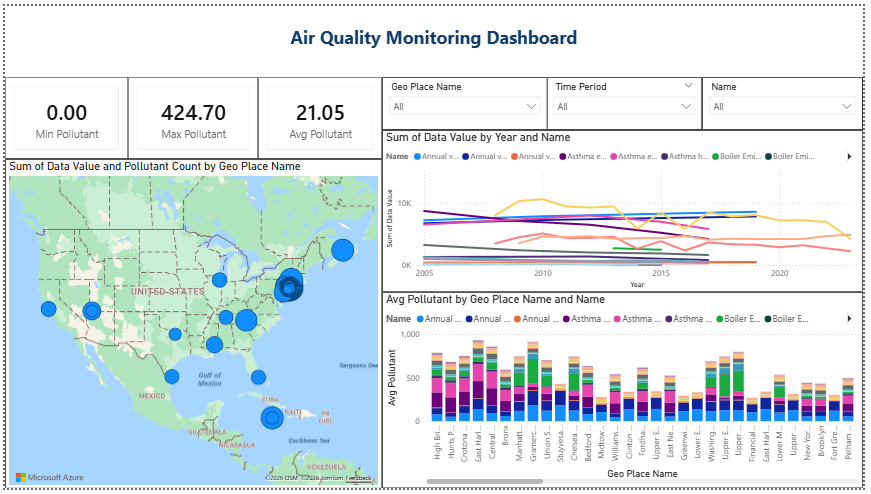

The page's visual inventory and layout, read from the dashboard file:
{"tool":"powerbi","page":{"name":"Page 1","canvas":[1280,720],"ordinal":0},"visuals":[{"type":"azureMap","fields":{"Category":["Air_Quality.Geo Place Name"],"Size":["Sum(Air_Quality.Data Value)"]},"box":[0,227.8,562.5,491.7],"z":0},{"type":"lineChart","fields":{"Category":["Air_Quality.Start_Date.Variation.Date Hierarchy.Year","Air_Quality.Start_Date.Variation.Date Hierarchy.Quarter","Air_Quality.Start_Date.Variation.Date Hierarchy.Month","Air_Quality.Start_Date.Variation.Date Hierarchy.Day"],"Y":["Sum(Air_Quality.Data Value)"],"Series":["Air_Quality.Name"]},"box":[562.5,184.7,718.1,241.7],"z":1},{"type":"columnChart","fields":{"Category":["Air_Quality.Geo Place Name"],"Y":["Air_Quality.Avg Pollutant"],"Series":["Air_Quality.Name"]},"box":[562.5,426.4,718.1,293.1],"z":2},{"type":"cardVisual","fields":{"Data":["Air_Quality.Avg Pollutant"]},"box":[377.6,106,185.1,122.4],"z":3},{"type":"cardVisual","fields":{"Data":["Air_Quality.Min Pollutant"]},"box":[0,106,183.6,122.4],"z":4},{"type":"cardVisual","fields":{"Data":["Air_Quality.Max Pollutant"]},"box":[183.6,106,194,122.4],"z":5},{"type":"slicer","fields":{"Values":["Air_Quality.Time Period"]},"box":[807.3,105.2,232.9,79.4],"z":6},{"type":"slicer","fields":{"Values":["Air_Quality.Name"]},"box":[1040.2,105.2,239.8,79.4],"z":7},{"type":"slicer","fields":{"Values":["Air_Quality.Geo Place Name"]},"box":[562.4,105.2,246.7,79.4],"z":8},{"type":"textbox","box":[0,21.8,1280,61],"z":9}]}

Visuals, with their boxes in screenshot pixels (x1, y1, x2, y2), scaled from the page's 1280x720 canvas onto the 871x494 screenshot:
azureMap - Air_Quality.Geo Place Name x Sum(Air_Quality.Data Value): locate(0, 156, 383, 493)
lineChart - Air_Quality.Start_Date.Variation.Date Hierarchy.Year x Air_Quality.Start_Date.Variation.Date Hierarchy.Quarter: locate(383, 127, 870, 293)
columnChart - Air_Quality.Geo Place Name x Air_Quality.Avg Pollutant: locate(383, 293, 870, 493)
cardVisual - Air_Quality.Avg Pollutant: locate(257, 73, 383, 157)
cardVisual - Air_Quality.Min Pollutant: locate(0, 73, 125, 157)
cardVisual - Air_Quality.Max Pollutant: locate(125, 73, 257, 157)
slicer - Air_Quality.Time Period: locate(549, 72, 708, 127)
slicer - Air_Quality.Name: locate(708, 72, 870, 127)
slicer - Air_Quality.Geo Place Name: locate(383, 72, 551, 127)
textbox: locate(0, 15, 870, 57)
